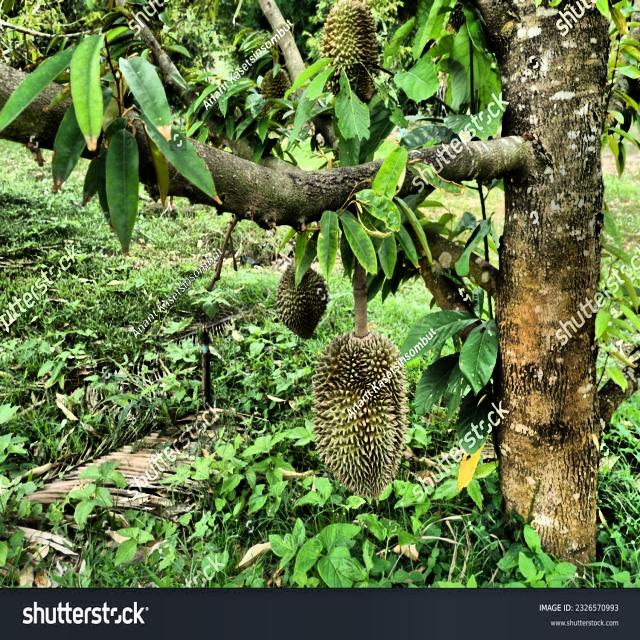arvore: (471, 0, 624, 575)
